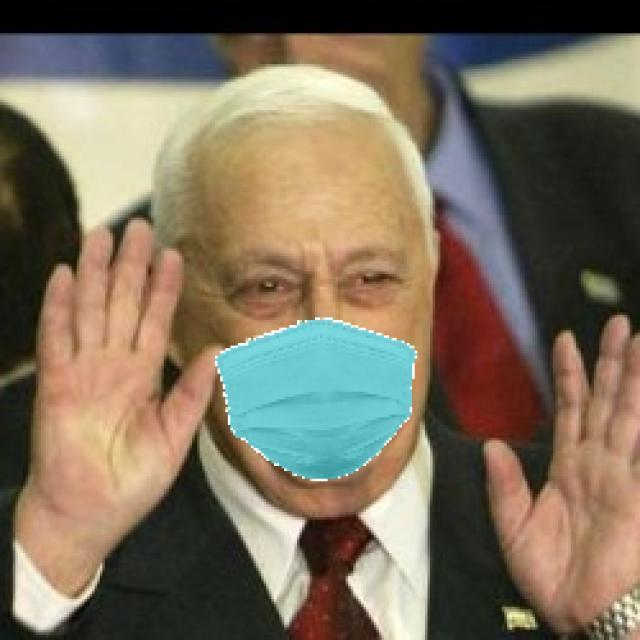surgical: (186, 162, 417, 488)
